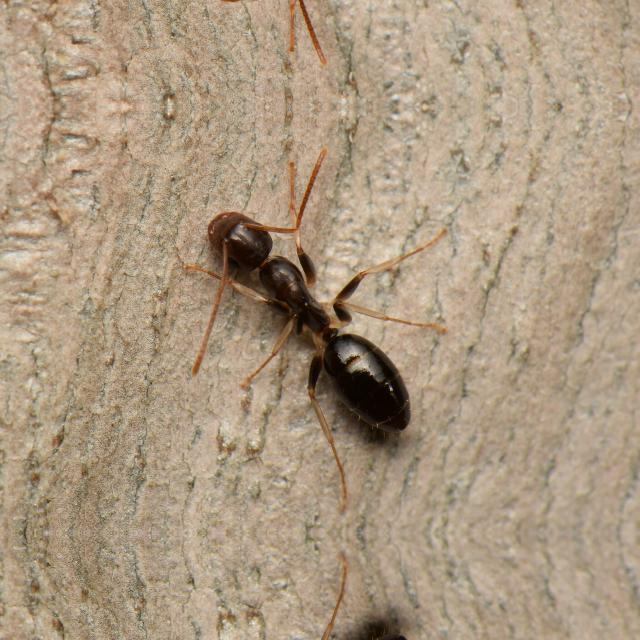Colobopsis: (168, 176, 462, 450)
